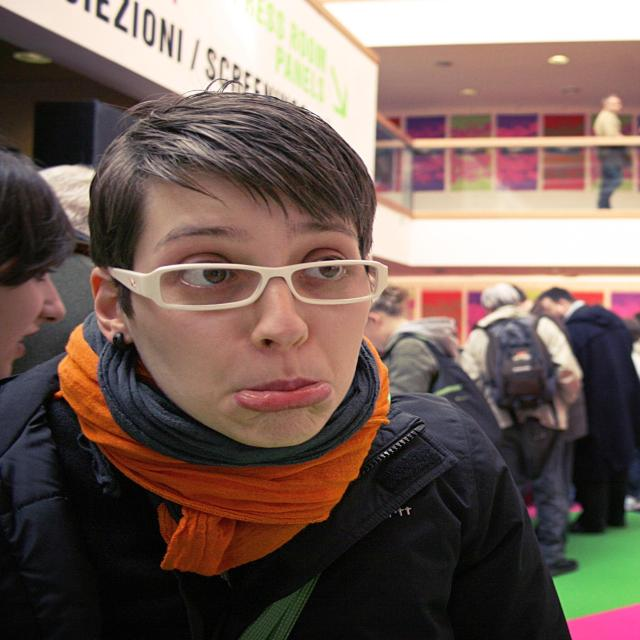no-glass: (177, 251, 358, 298)
